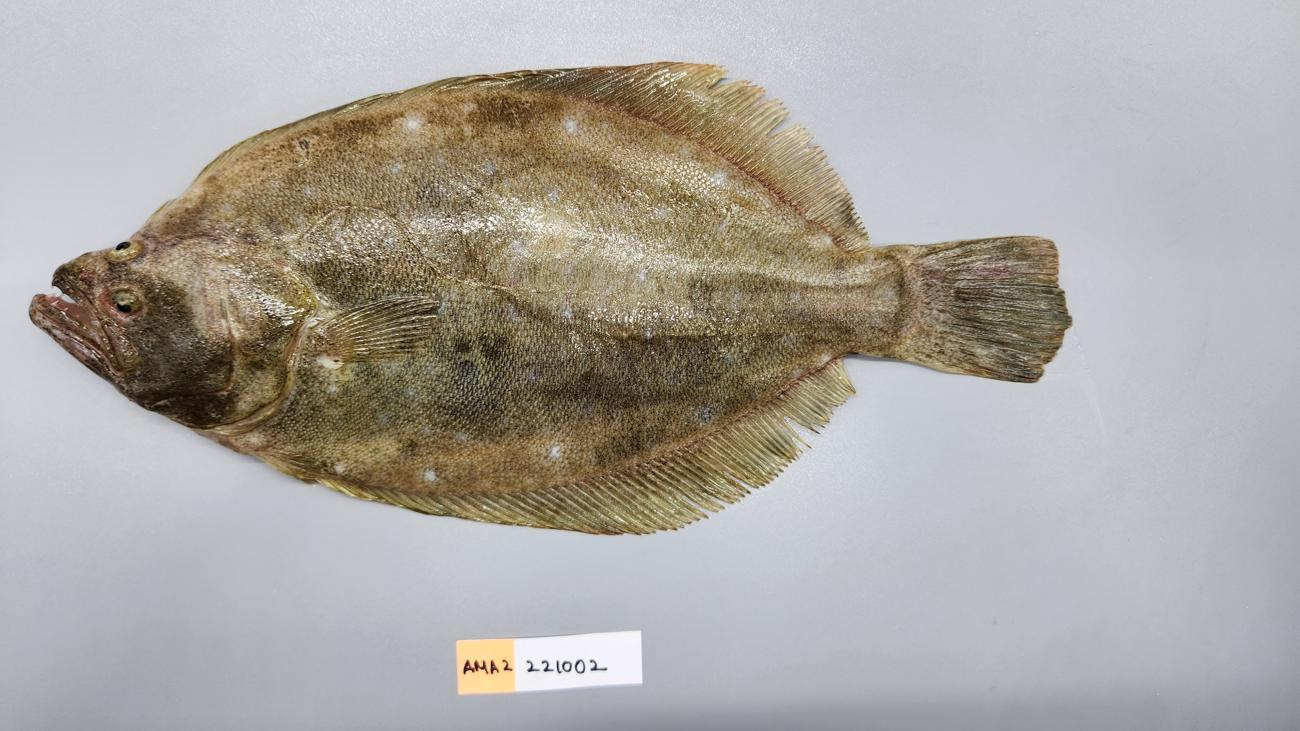MAFCH: (903, 236, 1074, 383)
MAOUY: (6, 50, 1083, 542)
